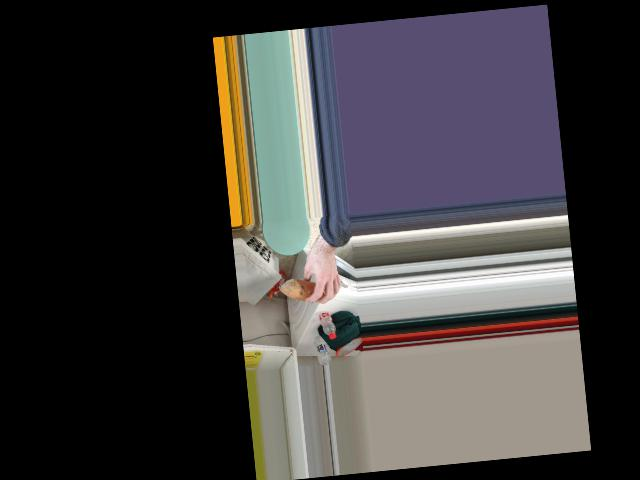sweet_potato: (280, 276, 330, 302)
